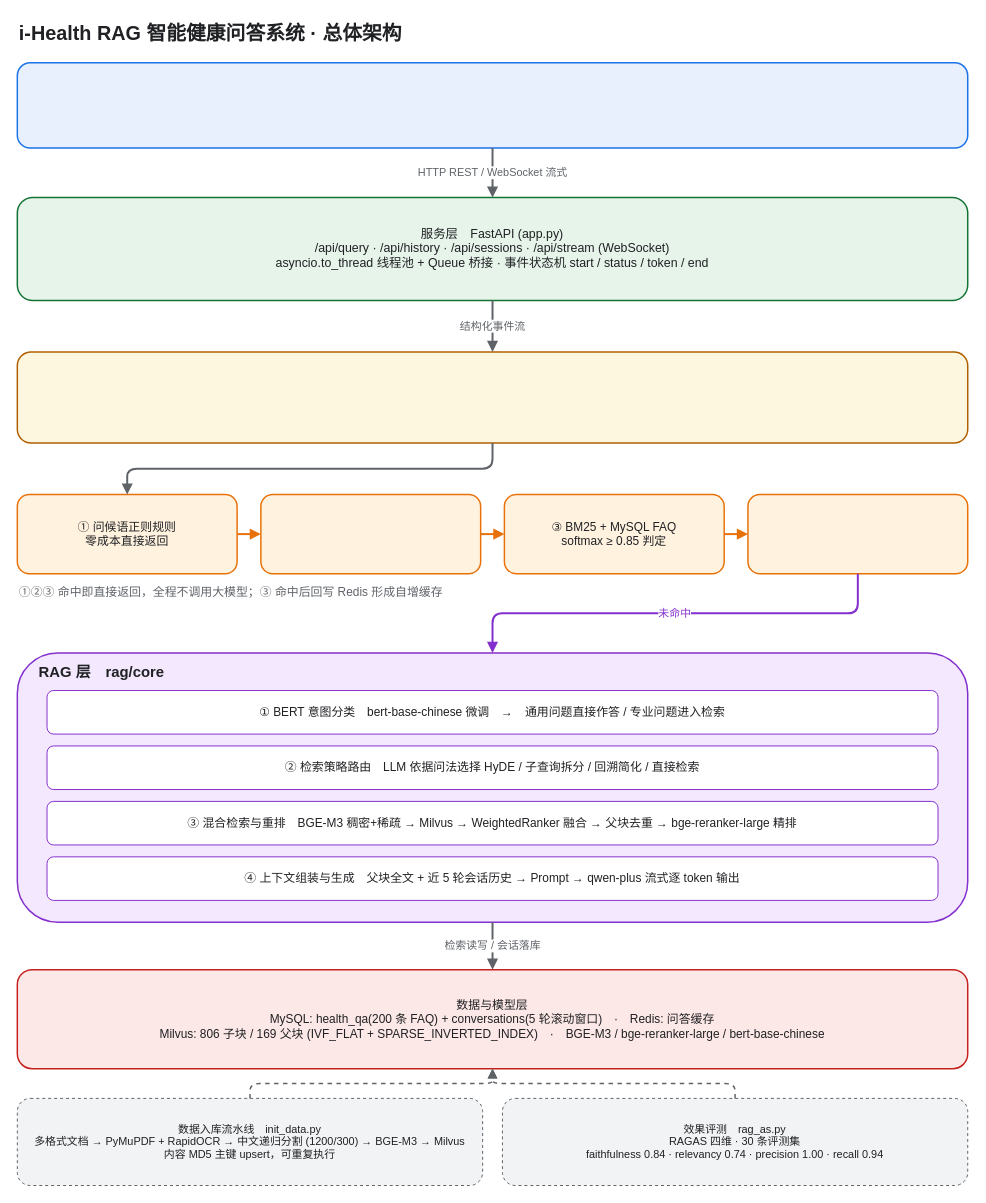
The diagram is 986 pixels wide and 1203 high, and some of its shapes have lost their labels. The shapes that lost their labels are listed below. From the top down, each one's centre as x and y in pixels, then its label:
At [492,105]: "浏览器前端 static/index.html 会话侧边栏 · Markdown 渲染 · 打字机流式 · 知识库类型过滤".
At [492,397]: "编排层 IntegratedSystem (main_v2.py) query_stream() 事件生成器 · 四级递进召回调度 · 会话历史滚动窗口".
At [370,533]: "② Redis 精确缓存 命中即返回".
At [857,533]: "④ RAG 检索生成 调用大模型".
